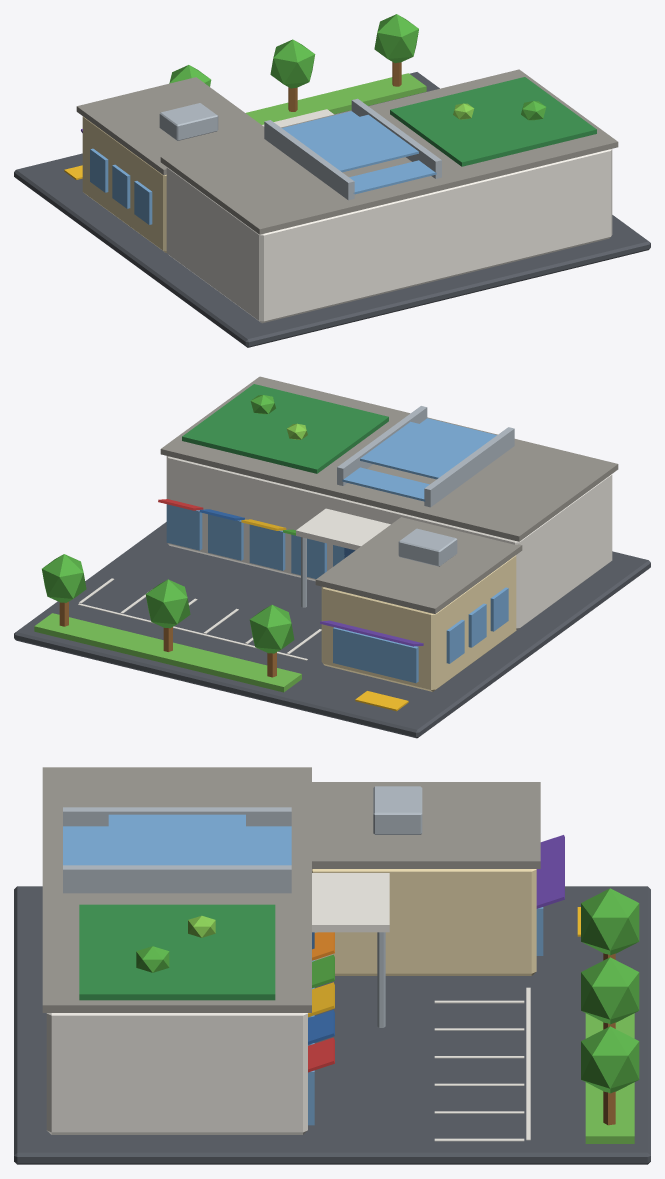
File: kit-cidade-shopping.glb
3 renders of one model, top to bottom at view 1: azimuth 30°, elevation 25°; view 2: azimuth 150°, elevation 25°; view 3: azimuth 270°, elevation 25°, orthographic. The views are drawn at different scales.
Visible parts, largest first — view 1: corpo; view 2: corpo; view 3: corpo.
Part boxes in pixels (x1,y1,x2,y2): corpo: [14, 14, 650, 347]; corpo: [14, 376, 650, 738]; corpo: [14, 767, 650, 1164].
Bounding box in the file's own units: 3.9 × 1.18 × 3.9.
